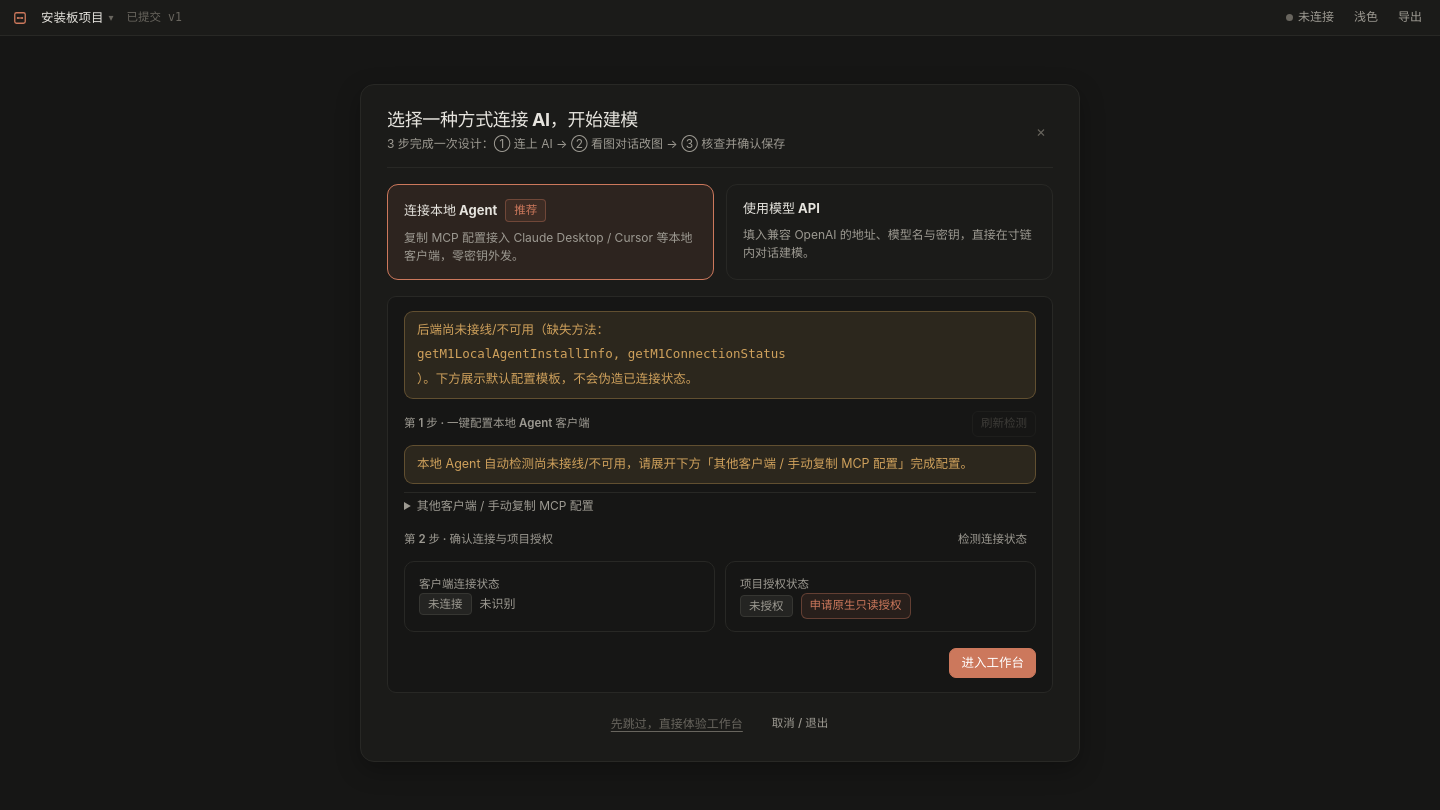
Test case: App：新工作台与旧工作台入口衔接 › 新工作台顶部提供返回旧工作台链接（#/desktop-legacy），点击/切换 hash 可平滑回切旧工作台
Later steps or results of the test are not shown.
What coordinates should you click on to do the following:
click the button with test id "more-menu-btn"
I would click on:
 (77, 18)
Its box is [34, 6, 120, 29].
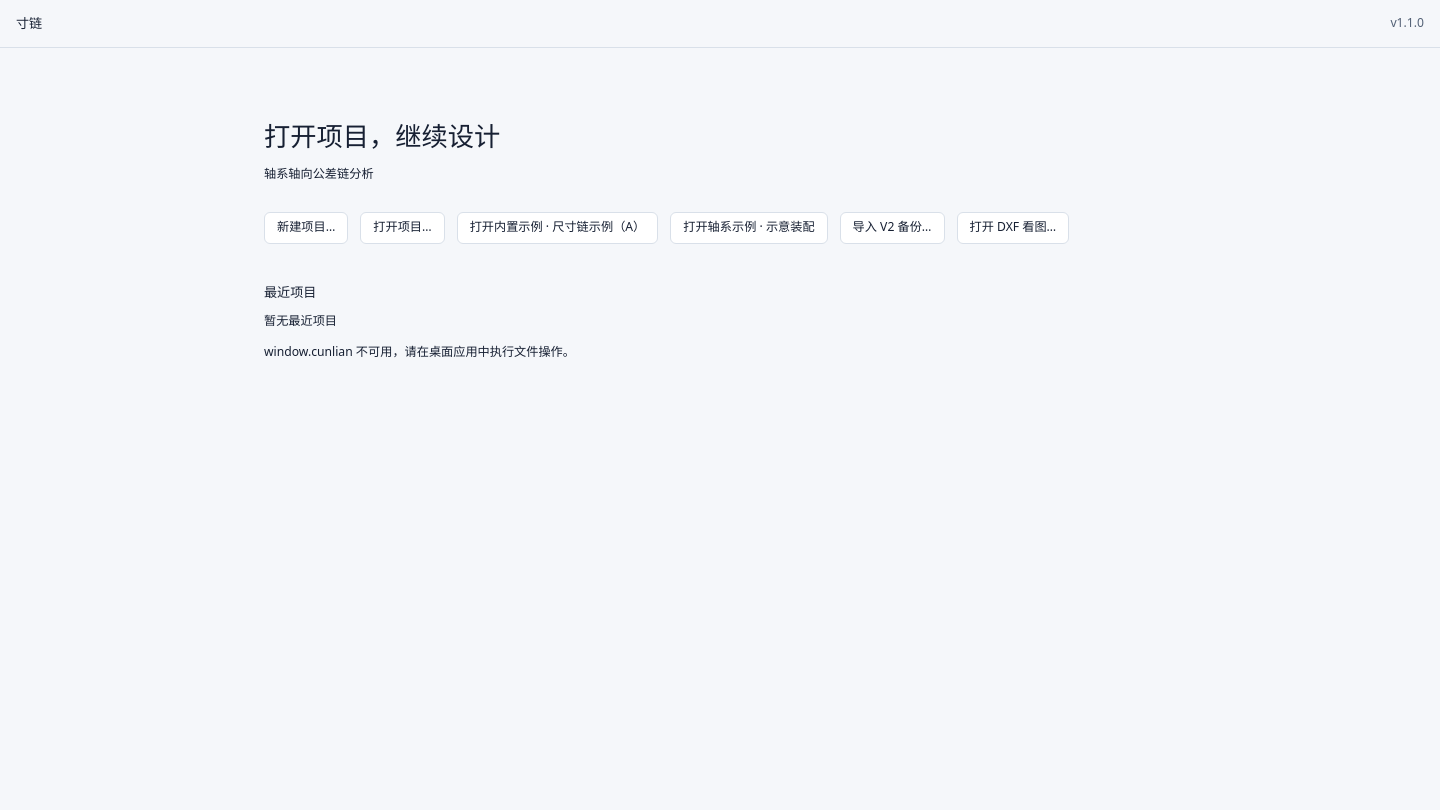
Expected: the element named "寸链启动页" is shown
